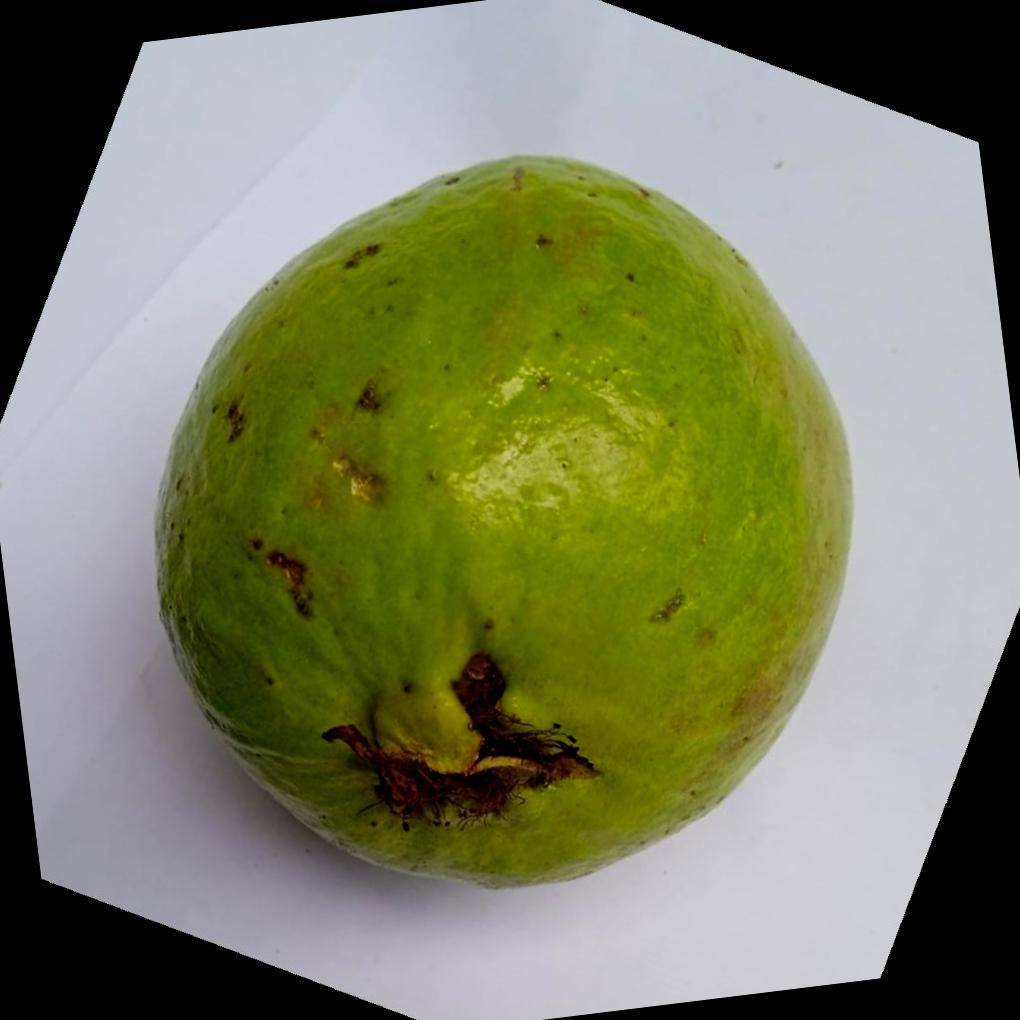FreshGuava: (156, 152, 859, 891)
